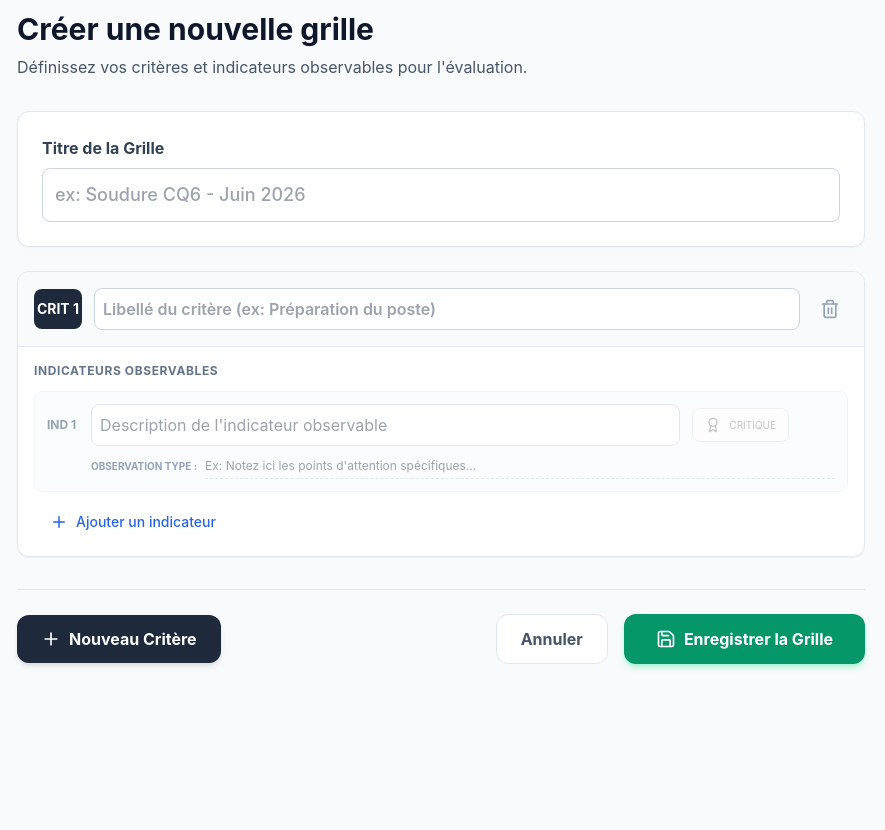
GridEditor › should validate required fields before saving
Click the button "Enregistrer la Grille".
click(744, 639)  # box left=624, top=614, right=865, bottom=664
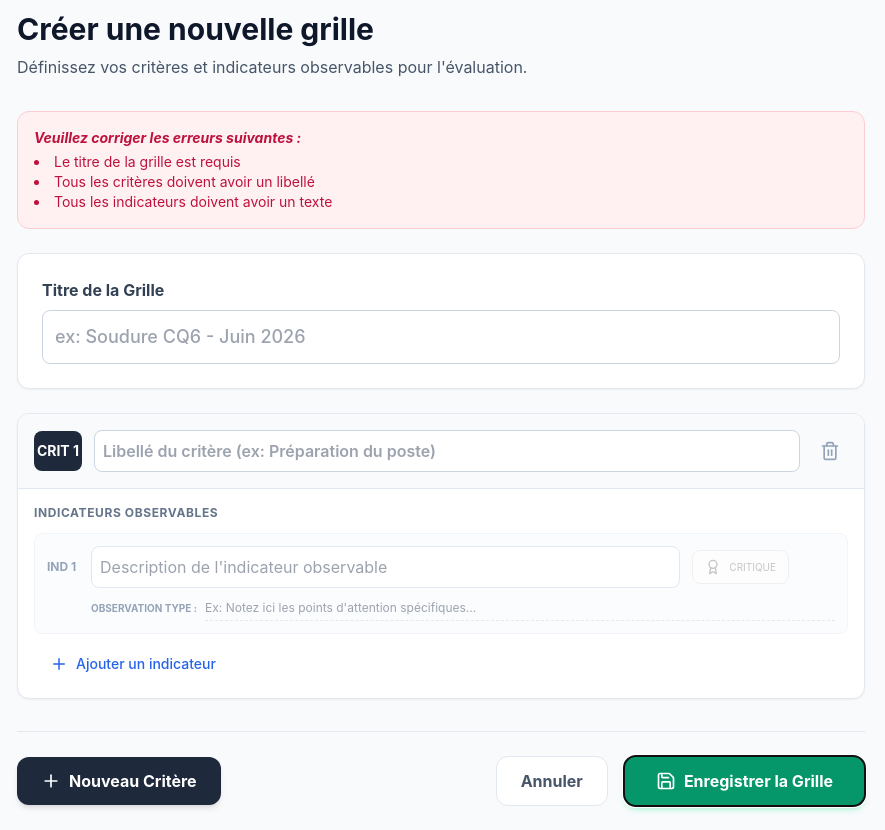
Check: the list item "Le titre de la grille est requis" is shown, box left=54, top=153, right=241, bottom=170
